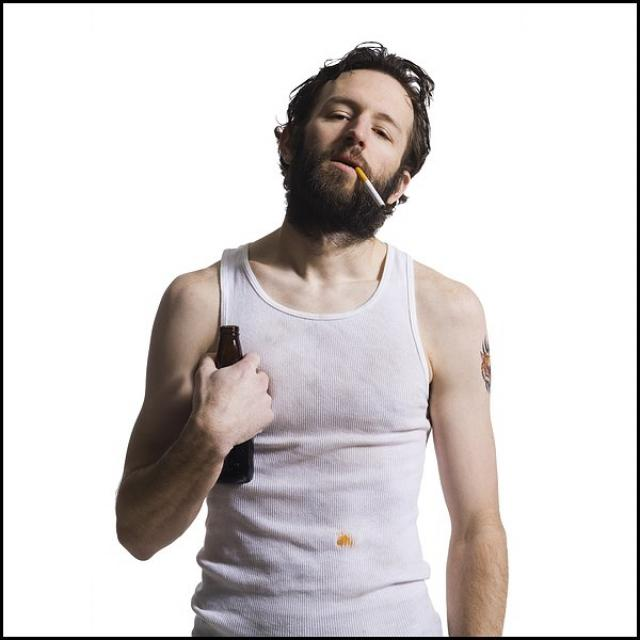smoking: (352, 163, 388, 209)
